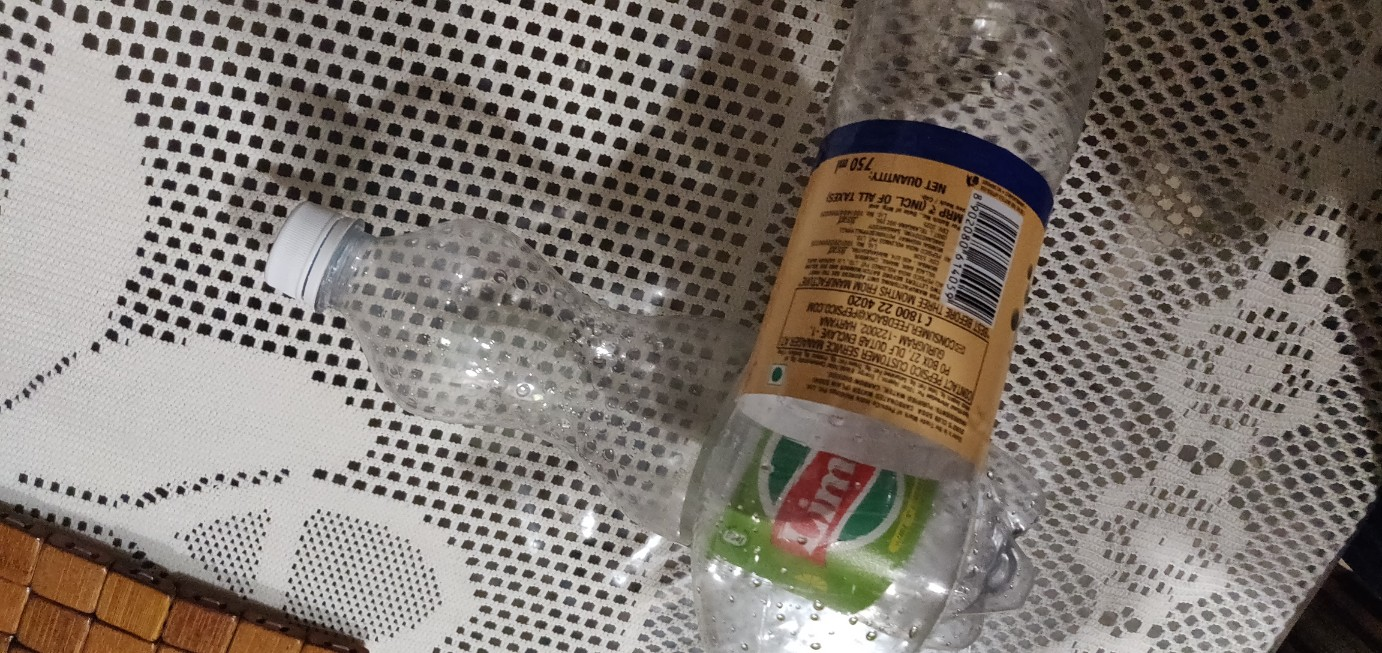Electronics: (251, 180, 1056, 653), (666, 1, 1126, 651)
